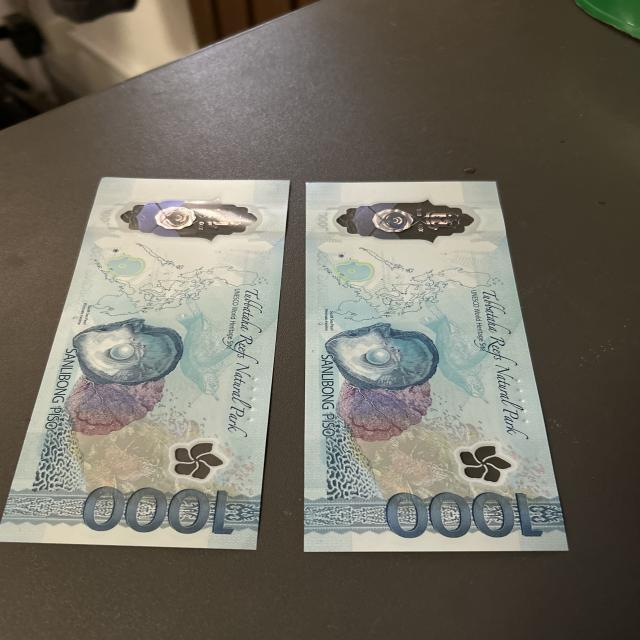clear_window: (337, 196, 479, 248), (117, 195, 256, 242)
sampaguita: (450, 441, 532, 485), (165, 441, 235, 482)
value: (69, 482, 237, 541)
